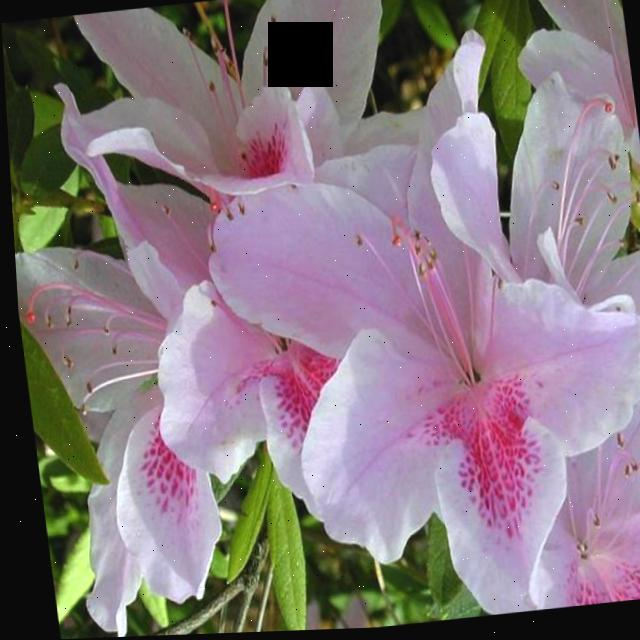azalea: (247, 115, 640, 607), (9, 193, 291, 640)
